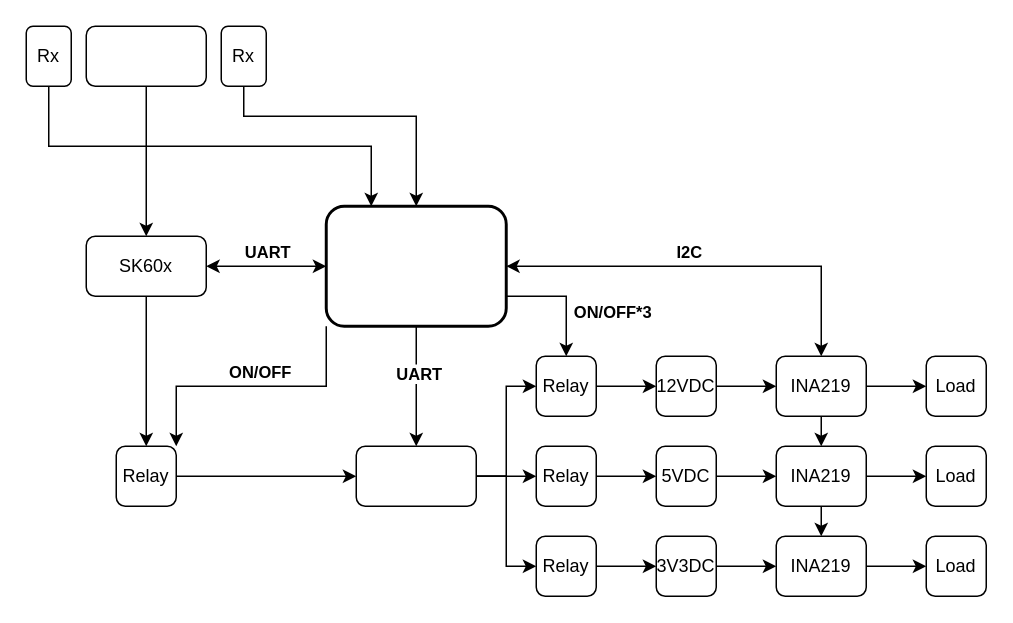
This 1013x623 diagram has some shape labels left out. The box of each missing label's shape, as (x1, y1, x2, y2) in pixels:
DalyBMS: (355, 445, 476, 506)
RX coil: (85, 25, 206, 86)
STM32: (324, 204, 507, 327)
